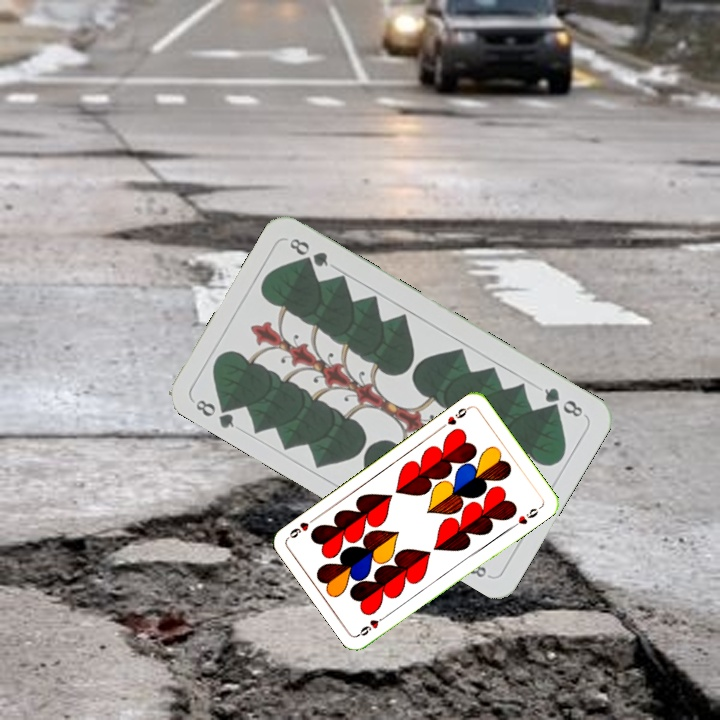G8: (540, 383, 587, 421), (191, 395, 238, 431)
H9: (437, 402, 473, 431), (355, 610, 390, 639)
